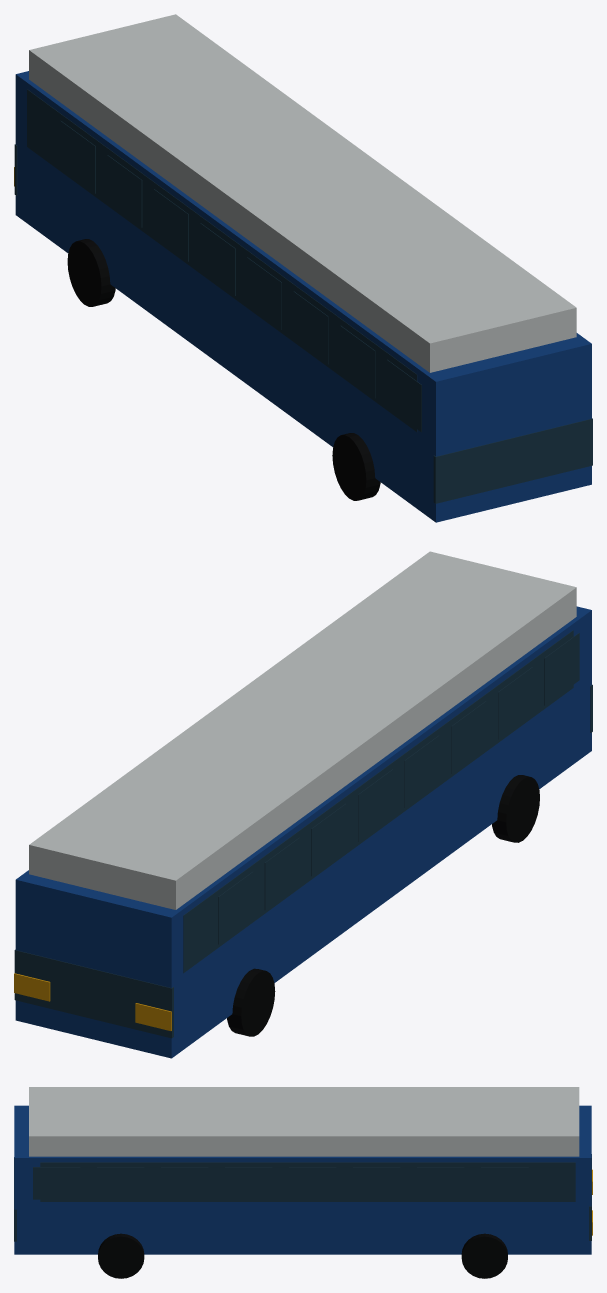
The model's file is modern_city_bus.obj.
3 renders of one model, top to bottom at view 1: azimuth 30°, elevation 25°; view 2: azimuth 150°, elevation 25°; view 3: azimuth 270°, elevation 25°, orthographic. The views are drawn at different scales.
Parts seen in each view (by area): view 1: roof, body, side_windows, windows, rear_window, wheels; view 2: roof, body, side_windows, windows, windshield, wheels, headlights; view 3: roof, body, side_windows, windows, wheels.
Part boxes in pixels (box(x1,y1,x2,y2)): roof: box(29, 14, 576, 372); body: box(15, 71, 591, 522); side_windows: box(60, 121, 421, 432); windows: box(27, 89, 417, 431); rear_window: box(433, 418, 592, 503); wheels: box(67, 239, 380, 500); roof: box(29, 551, 576, 909); body: box(15, 606, 591, 1058); side_windows: box(218, 633, 579, 944); windows: box(183, 630, 573, 973); windshield: box(14, 949, 173, 1038); wheels: box(227, 775, 539, 1036); headlights: box(14, 973, 171, 1030); roof: box(29, 1087, 579, 1156); body: box(14, 1105, 591, 1254); side_windows: box(33, 1167, 528, 1199); windows: box(40, 1162, 575, 1201); wheels: box(98, 1233, 507, 1278).
Bounding box in the file's own units: 2.84 × 3.14 × 11.94.
